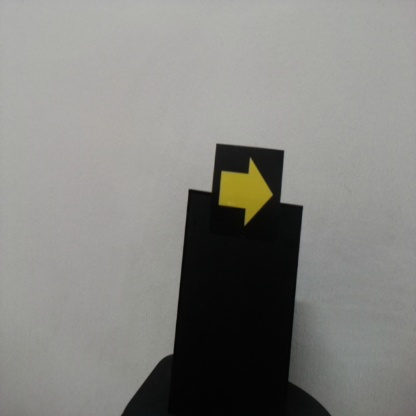id_3: (217, 147, 282, 245)
